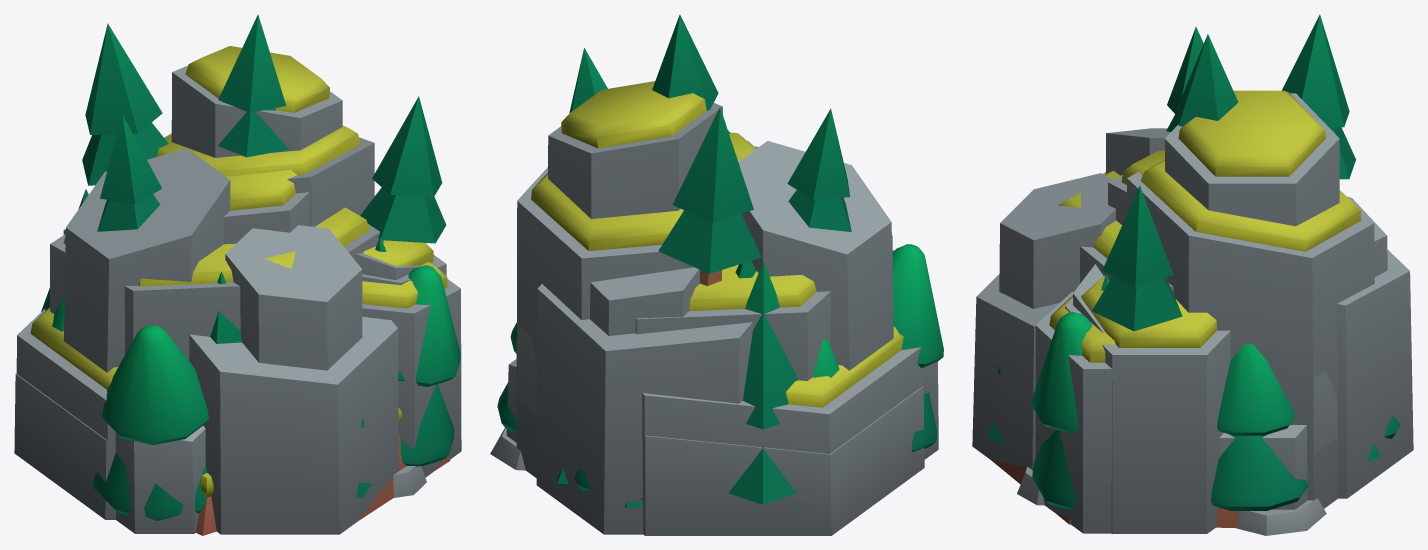
Rendered from horizon.glb.
The picture shows the model from 3 angles, left to right: view 1: azimuth 30°, elevation 25°; view 2: azimuth 150°, elevation 25°; view 3: azimuth 270°, elevation 25°; orthographic projection. The views are drawn at different scales.
Visible parts, largest first — view 1: mountain_C, mountain_A_grass_trees, mountain_A, trees_B_large, mountain_B, mountain_B_grass, hills_A, hills_B, hills_A_trees, hills_C; view 2: mountain_C, mountain_B, mountain_A, mountain_A_grass_trees, mountain_B_grass, hills_C_trees, trees_B_large, hills_A; view 3: mountain_B, mountain_C, mountain_B_grass, mountain_A_grass_trees, trees_B_large, mountain_A, hills_A, hills_C.
Boxes of the visible parts, x1,y1,x2,y2 form: mountain_C: (63,148,459,534); mountain_A_grass_trees: (63,14,447,308); mountain_A: (14,192,461,519); trees_B_large: (52,265,460,520); mountain_B: (16,65,446,477); mountain_B_grass: (30,46,433,389); hills_A: (393,466,426,497); hills_B: (195,473,216,535); hills_A_trees: (210,271,241,343); hills_C: (358,408,450,520); mountain_C: (506,141,938,534); mountain_B: (516,103,922,535); mountain_A: (517,141,924,535); mountain_A_grass_trees: (569,14,851,311); mountain_B_grass: (531,81,903,407); hills_C_trees: (557,261,798,507); trees_B_large: (497,244,943,500); hills_A: (490,428,525,470); mountain_B: (1065,93,1374,533); mountain_C: (972,128,1413,513); mountain_B_grass: (1081,90,1360,347); mountain_A_grass_trees: (1049,14,1355,362); trees_B_large: (997,299,1400,510); mountain_A: (1035,172,1337,533); hills_A: (1017,466,1326,535); hills_C: (991,457,1239,527).
Bounding box in the file's own units: 1.87 × 2.28 × 2.02.
1 material, 1 textured.
